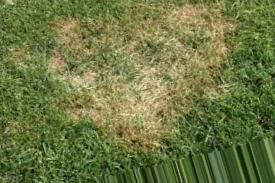patch: (148, 48, 189, 90), (83, 116, 138, 144), (108, 75, 145, 111), (59, 65, 101, 92), (154, 13, 193, 37), (202, 11, 227, 43), (65, 35, 98, 55), (123, 42, 143, 66), (143, 119, 167, 137), (149, 95, 168, 114), (60, 101, 93, 110)
